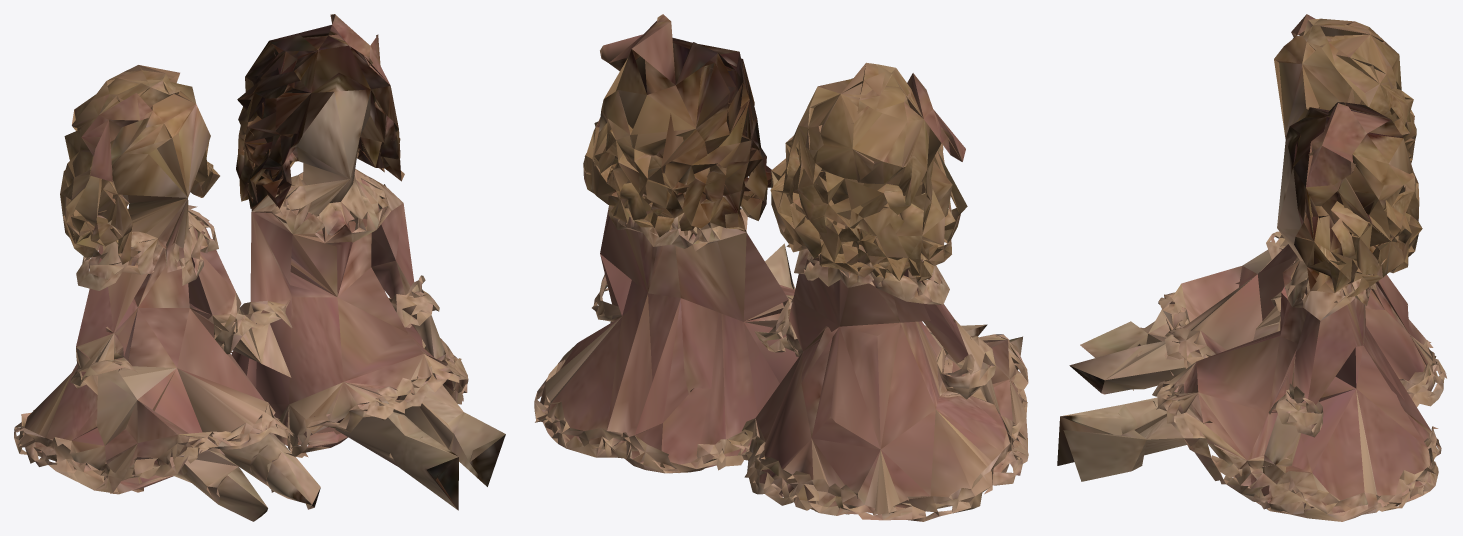
Rendered from up_doll_twins.glb.
3 renders of one model, left to right at view 1: azimuth 30°, elevation 25°; view 2: azimuth 150°, elevation 25°; view 3: azimuth 270°, elevation 25°, orthographic. The views are drawn at different scales.
Visible parts, largest first — view 1: up_doll_twins; view 2: up_doll_twins; view 3: up_doll_twins.
Boxes of the visible parts, <box> form: up_doll_twins: <box>14,14,505,521</box>; up_doll_twins: <box>534,14,1028,521</box>; up_doll_twins: <box>1057,14,1446,521</box>.
Bounding box in the file's own units: 0.4668 × 0.4 × 0.3799.
1 material, 1 textured.
